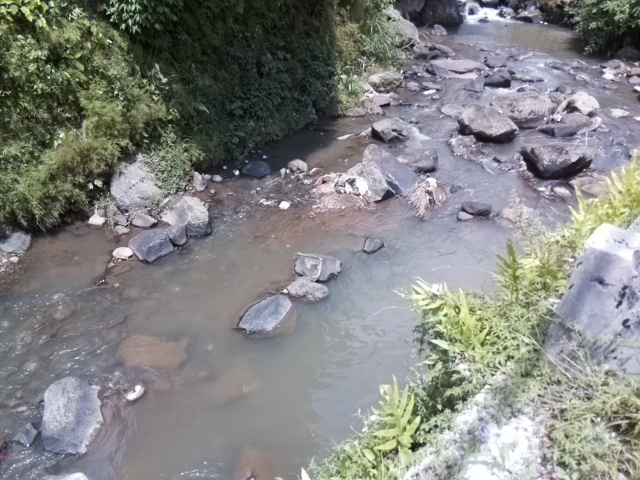Sampah_Styrofoam: (277, 199, 291, 210)
